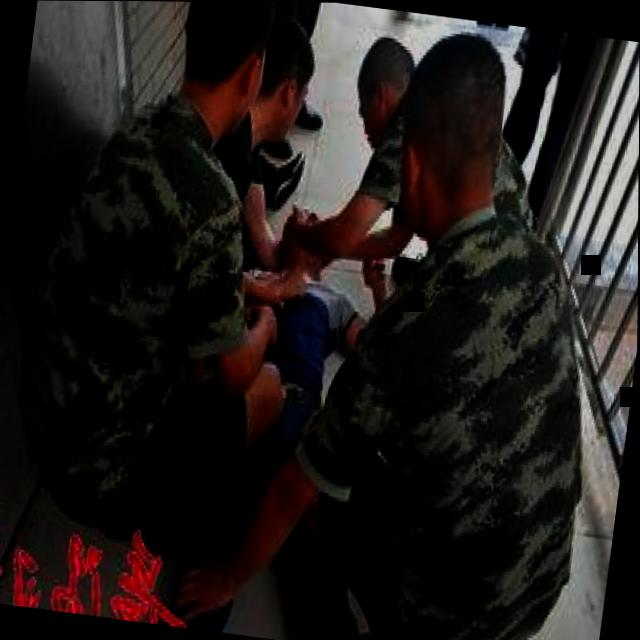Fall-Detected: (185, 146, 411, 640)
